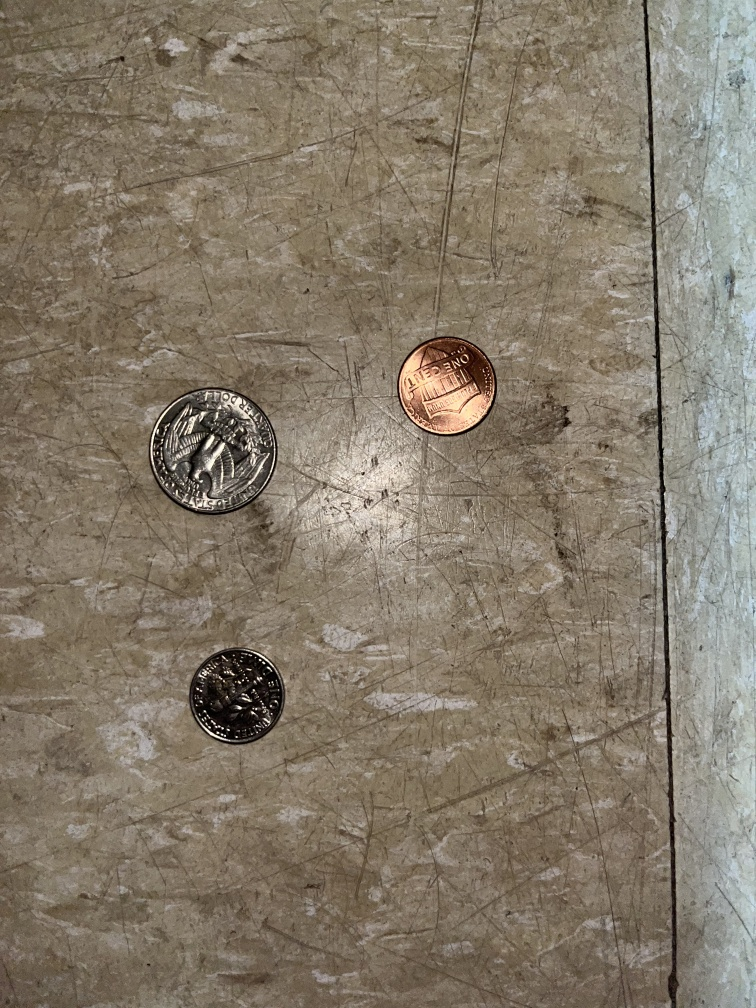dime: (184, 642, 289, 753)
penny: (382, 328, 505, 445)
quarter: (143, 382, 282, 524)
